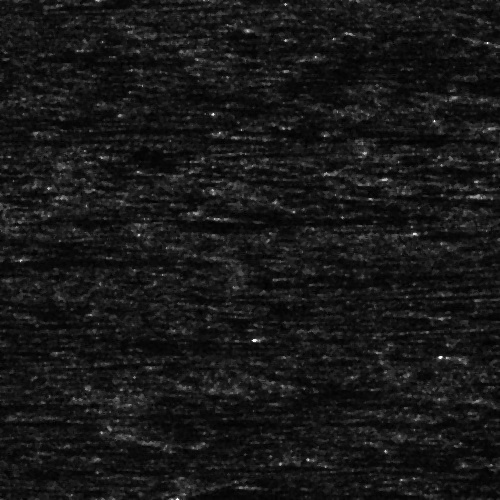object: (448, 187, 500, 202)
shadow: (480, 187, 500, 202)
